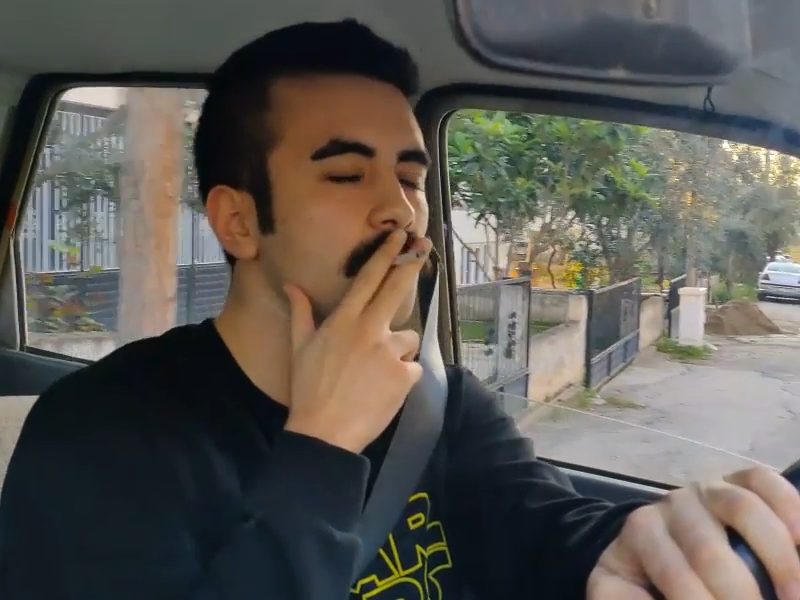sigara: (386, 244, 435, 268)
